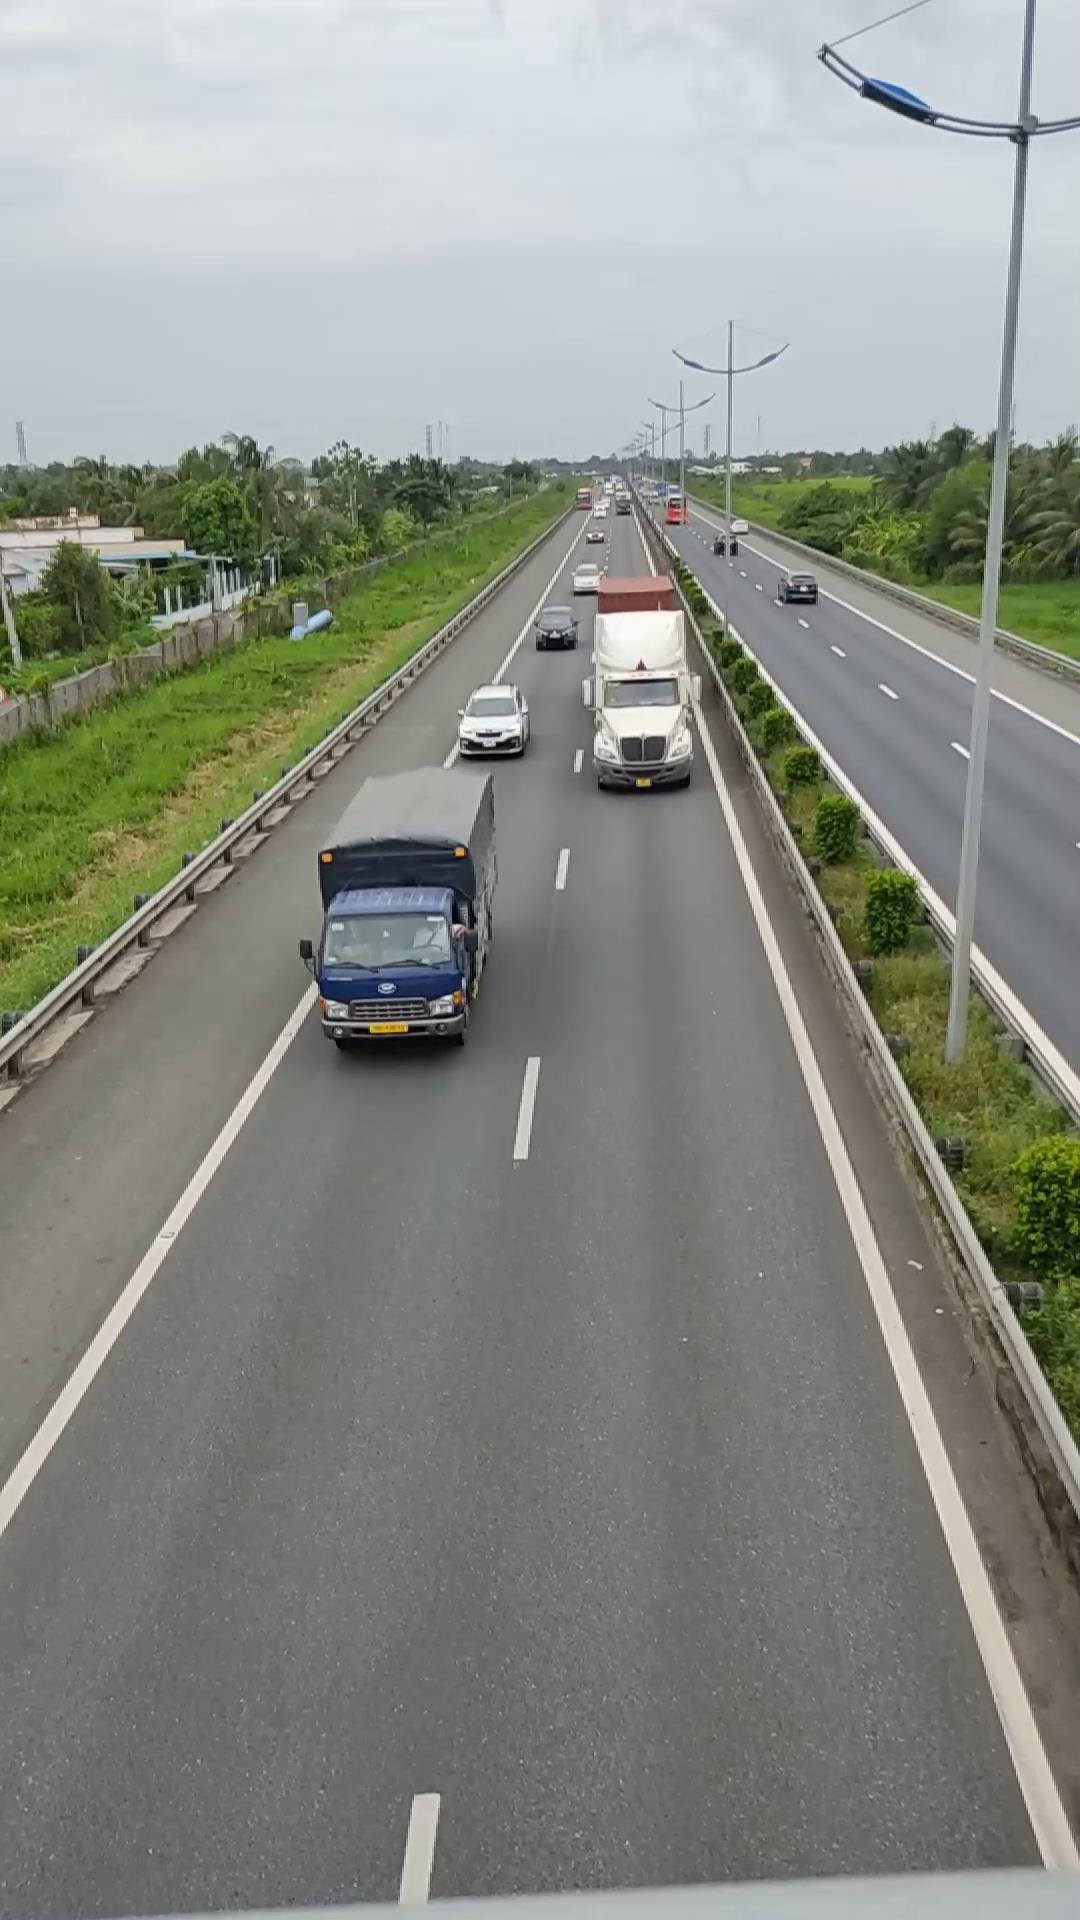car: (454, 683, 531, 757)
container: (579, 570, 698, 793)
truck: (305, 760, 502, 1048)
